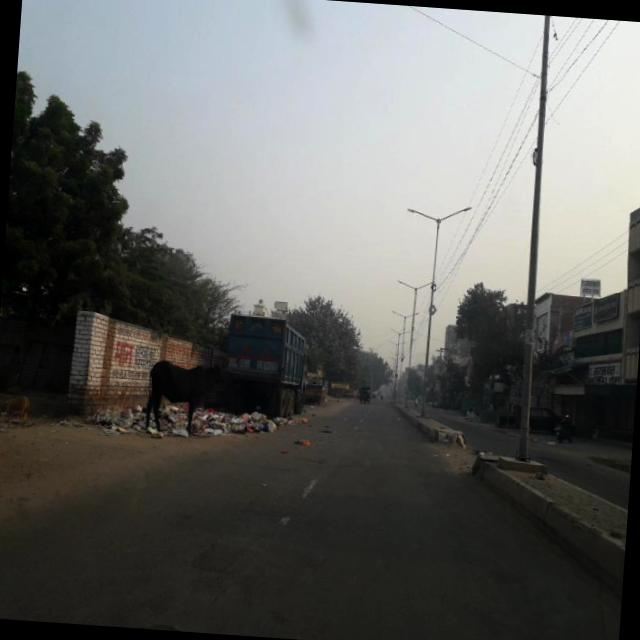pothole: (291, 450, 325, 470)
